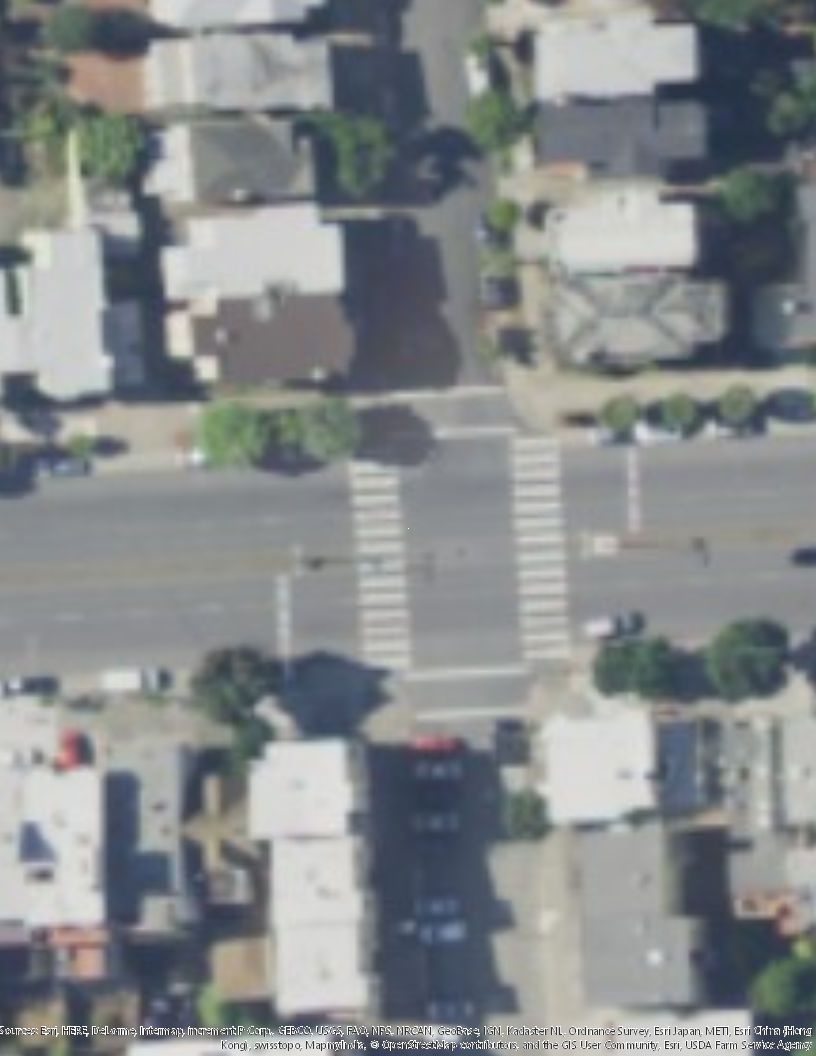zebracross: (505, 433, 575, 661), (347, 451, 413, 670)
